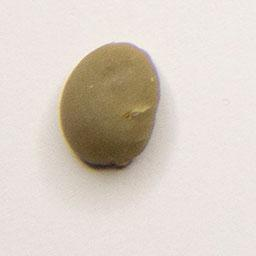premium: (56, 38, 165, 173)
